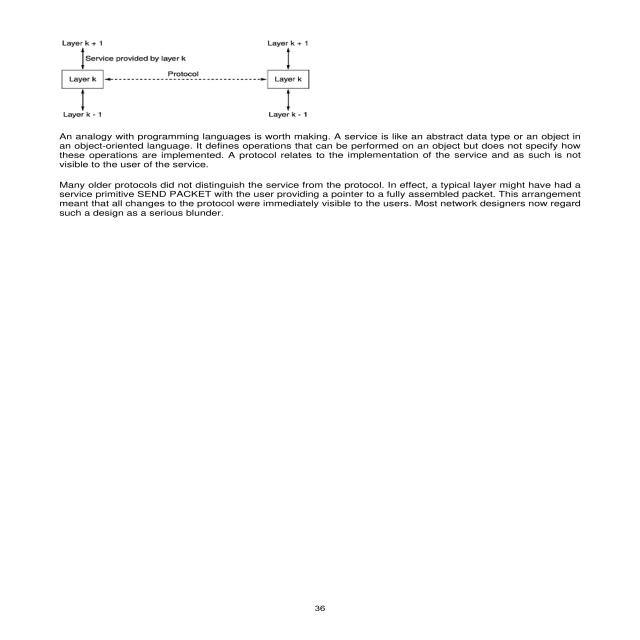diagram: (26, 22, 338, 124)
